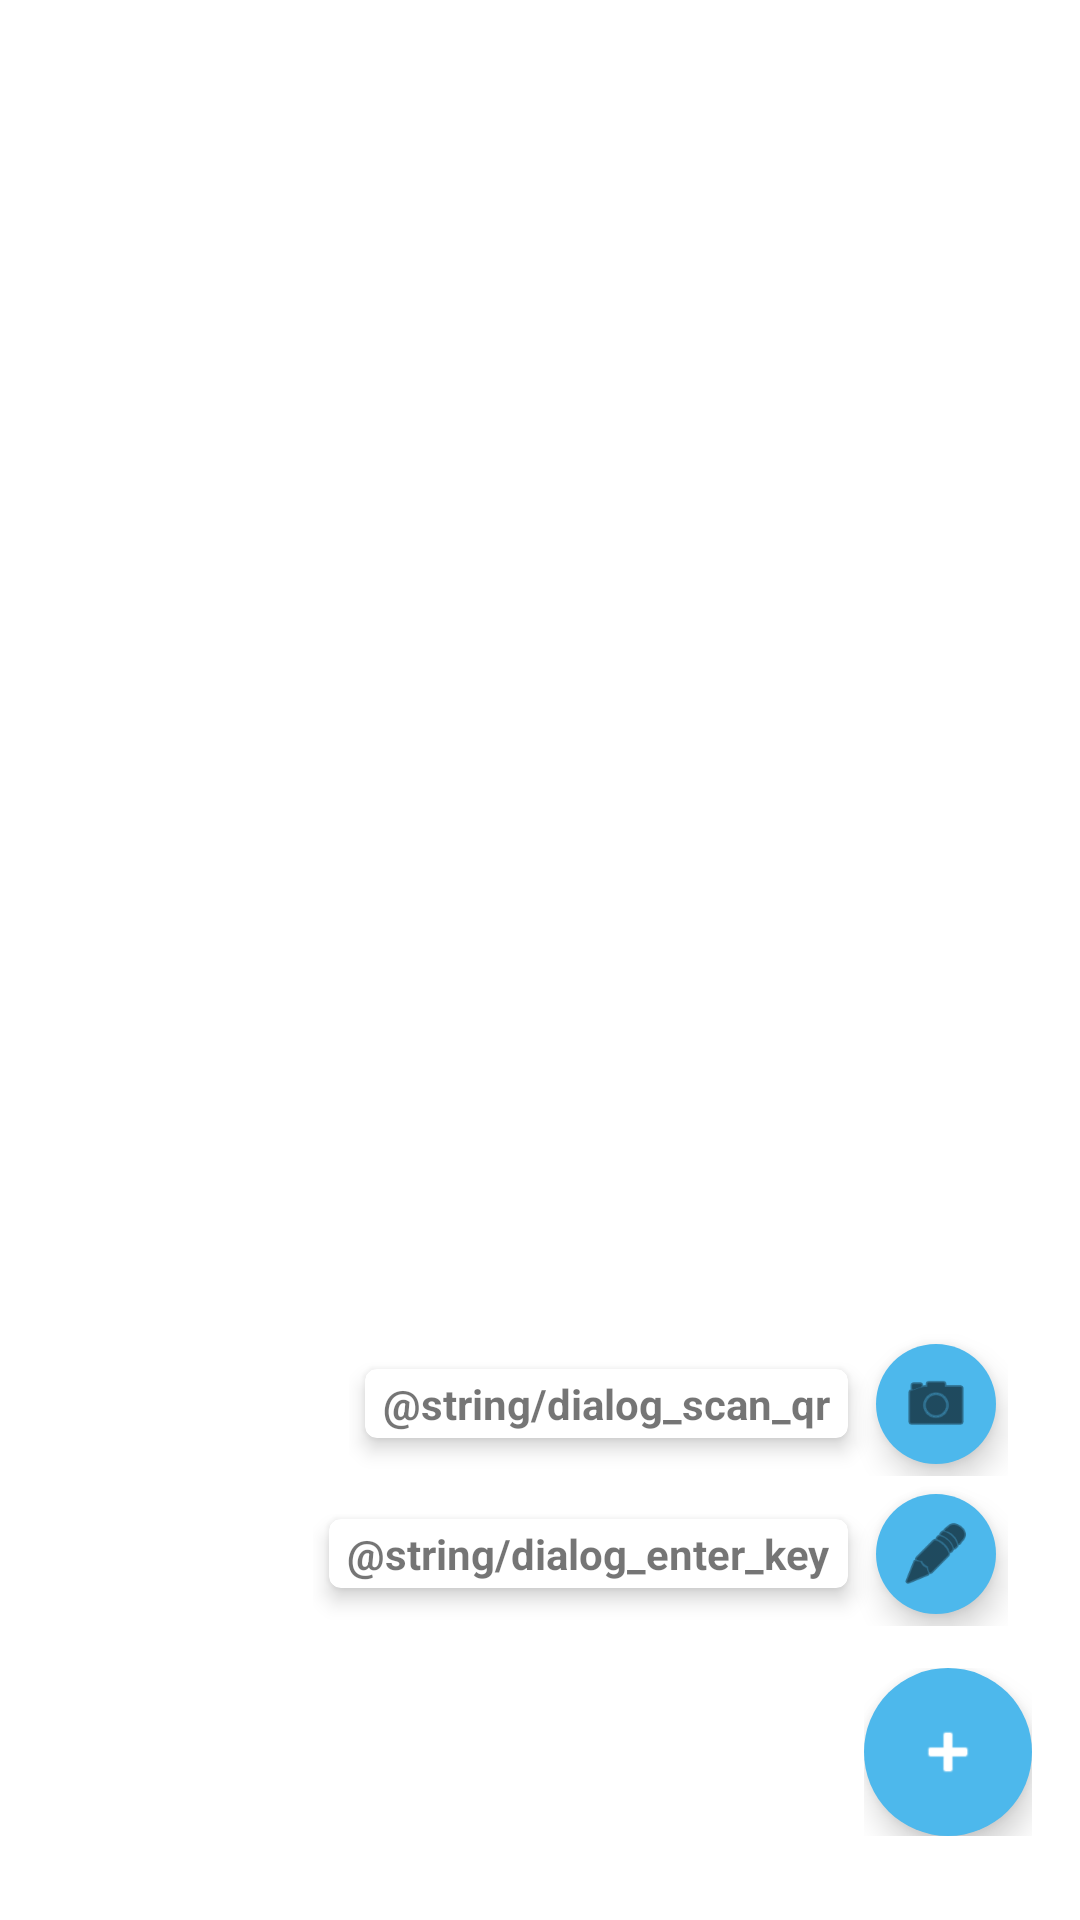

Icon bounding boxes for this 1080px×1920px phone screenshot, format (x1, y1, x2, y2):
add: (864, 1668, 1032, 1836)
camera: (876, 1344, 998, 1476)
edit: (876, 1494, 998, 1626)
